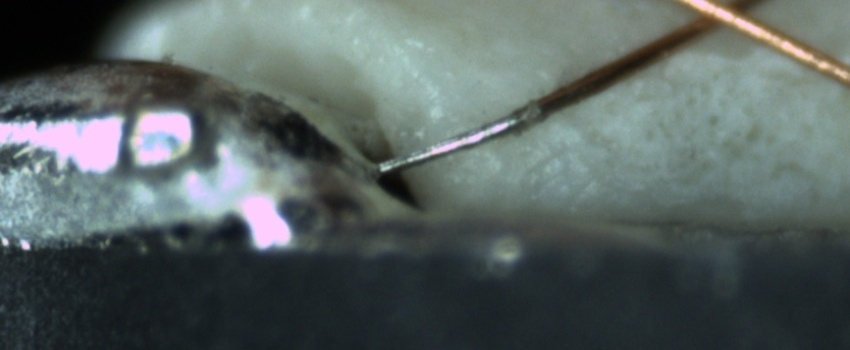CL: (671, 1, 783, 41)
TS: (376, 105, 541, 174)
